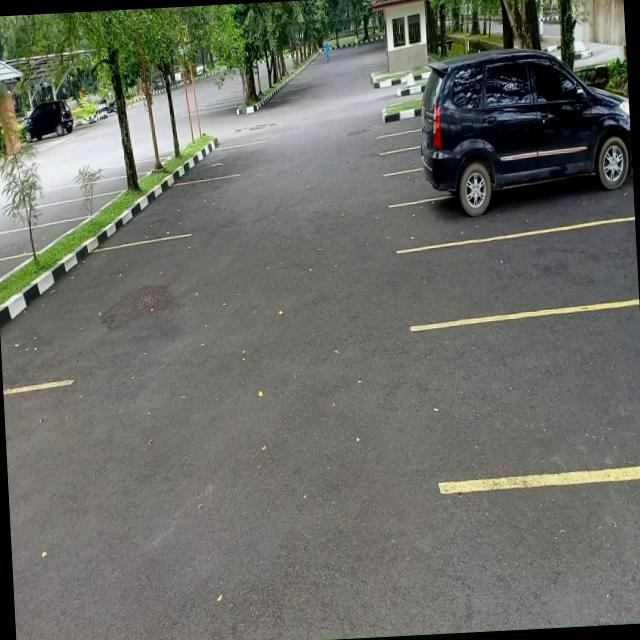car: (410, 90, 636, 244)
free: (416, 306, 640, 496), (15, 240, 188, 388), (411, 226, 640, 323), (141, 178, 233, 242), (188, 145, 257, 181), (0, 222, 68, 257), (40, 196, 114, 223), (74, 178, 128, 198)
